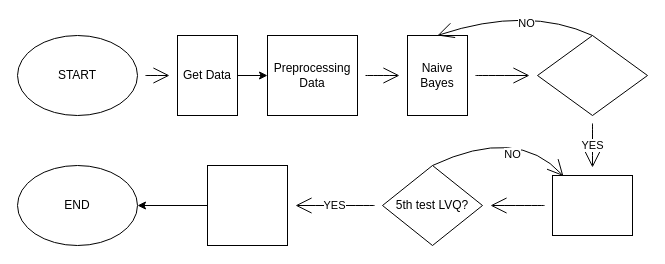
Image size: 665x264. Some labels were removed from this diagram. The centre of each missing label's shape, as x and y in pixels:
"5th test Naive Bayes?" belongs at point 592,75.
"Calculating accuracy" belongs at point 247,205.
"LVQ" belongs at point 592,205.
